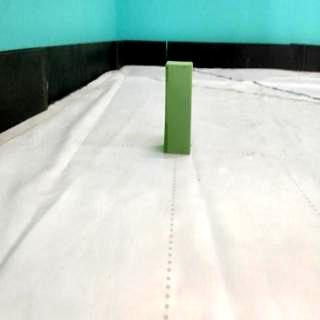greenbox: (164, 59, 194, 155)
